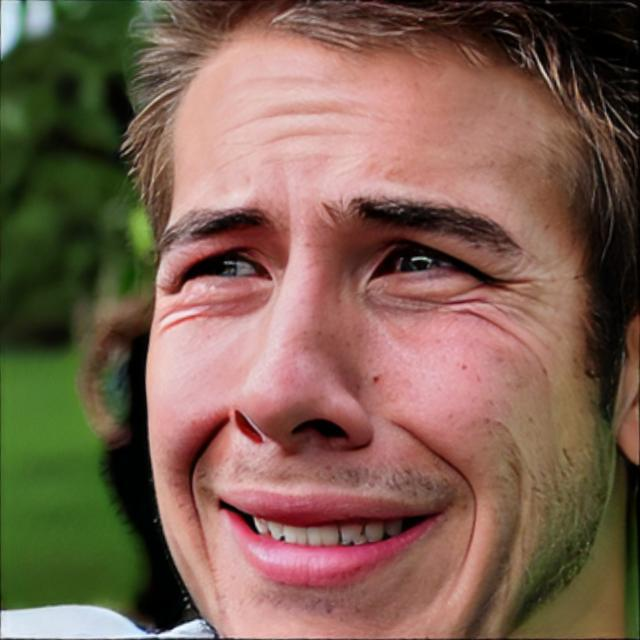sad: (140, 31, 612, 640)
